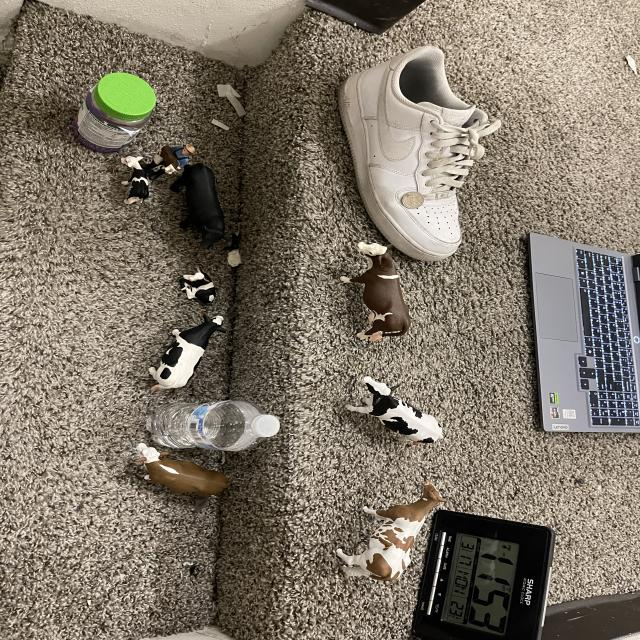cow: (328, 459, 450, 600), (332, 235, 415, 347), (345, 372, 449, 461), (141, 298, 230, 399), (127, 442, 231, 509), (165, 159, 231, 254), (176, 266, 219, 311), (121, 155, 150, 204), (155, 143, 182, 175)
person: (171, 145, 195, 168)
